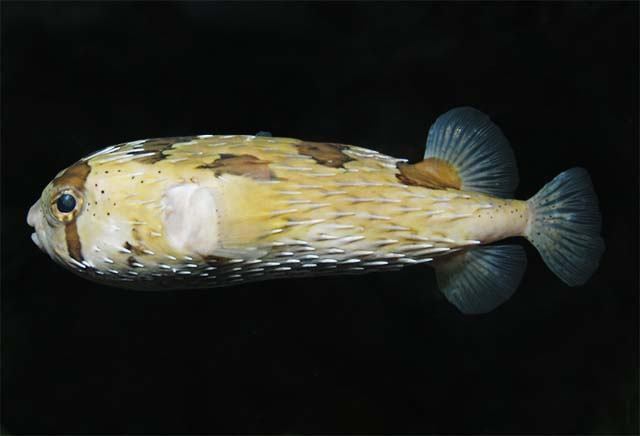Diodon_holocanthus: (8, 100, 621, 331)
